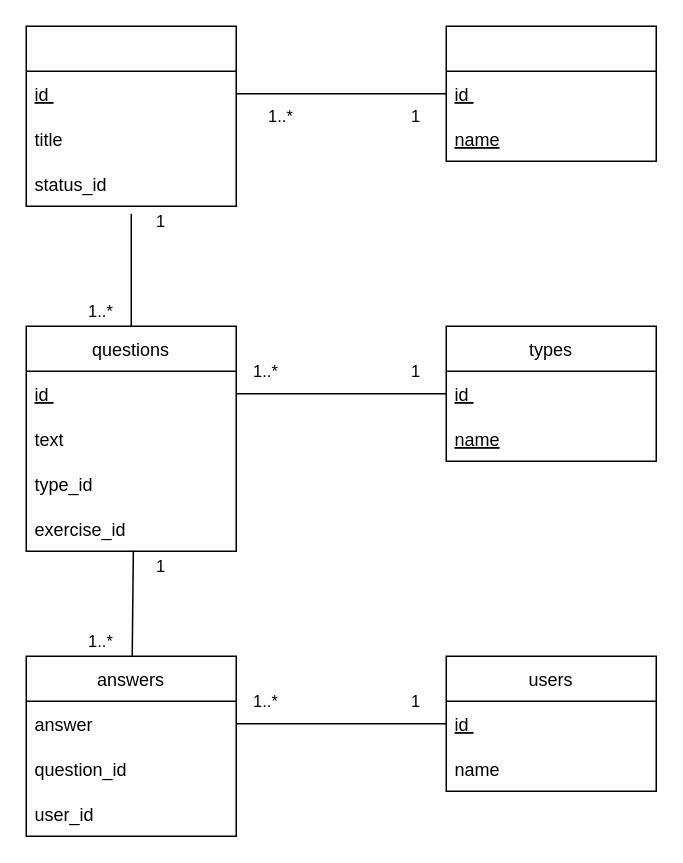
The diagram is 683 pixels wide and 863 high, and some of its shapes have lost their labels. The box of each missing label's shape, as (x1, y1, x2, y2) in pixels:
exercises: (25, 25, 236, 206)
status: (445, 25, 656, 161)
